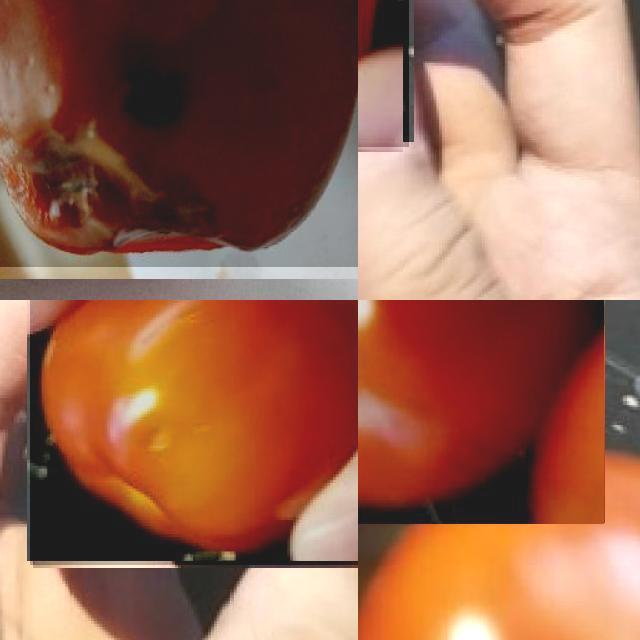tomato: (31, 301, 359, 565), (359, 437, 640, 640), (359, 301, 605, 524)
